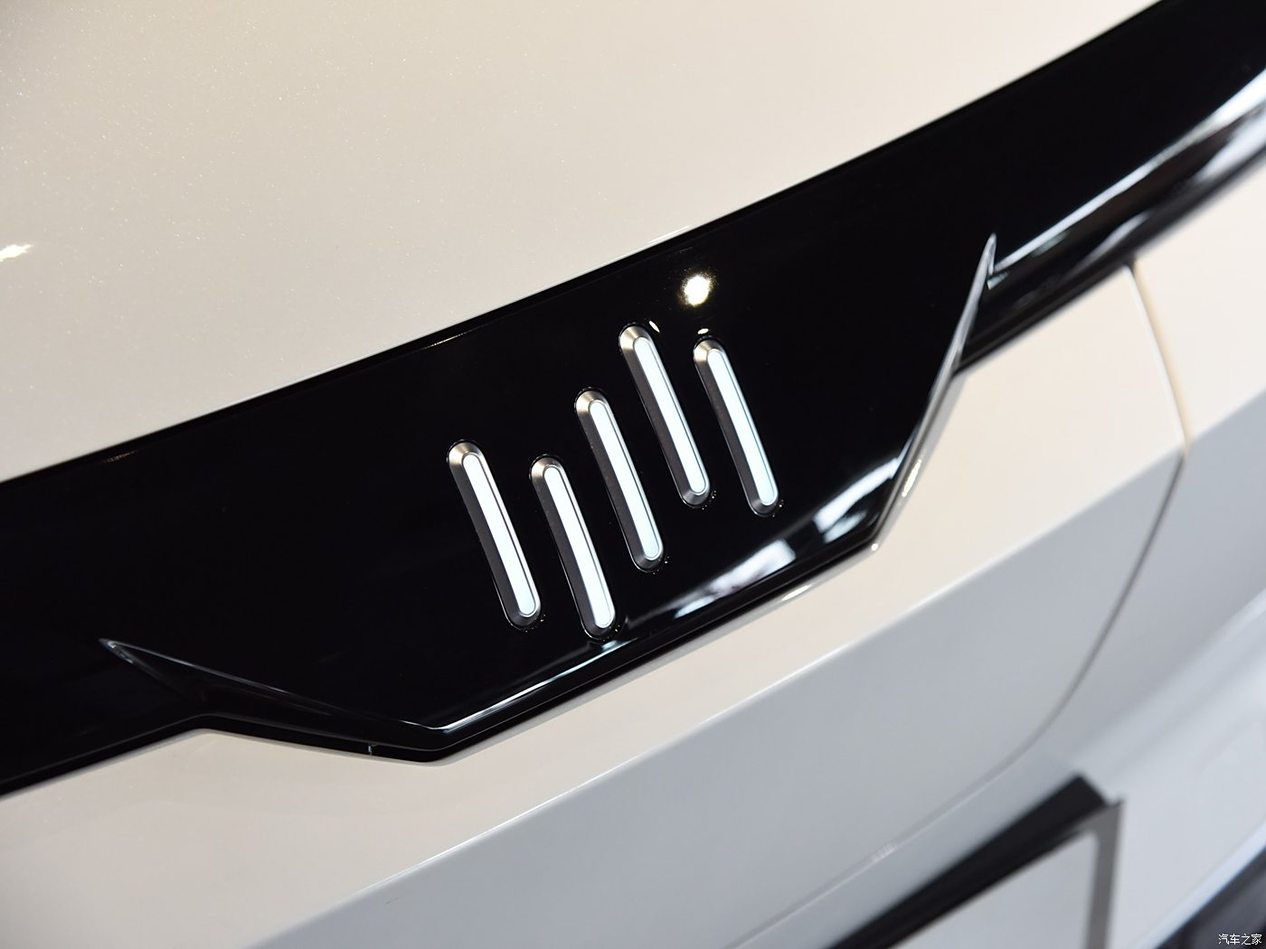WELTMEISTER: (449, 326, 779, 634)
